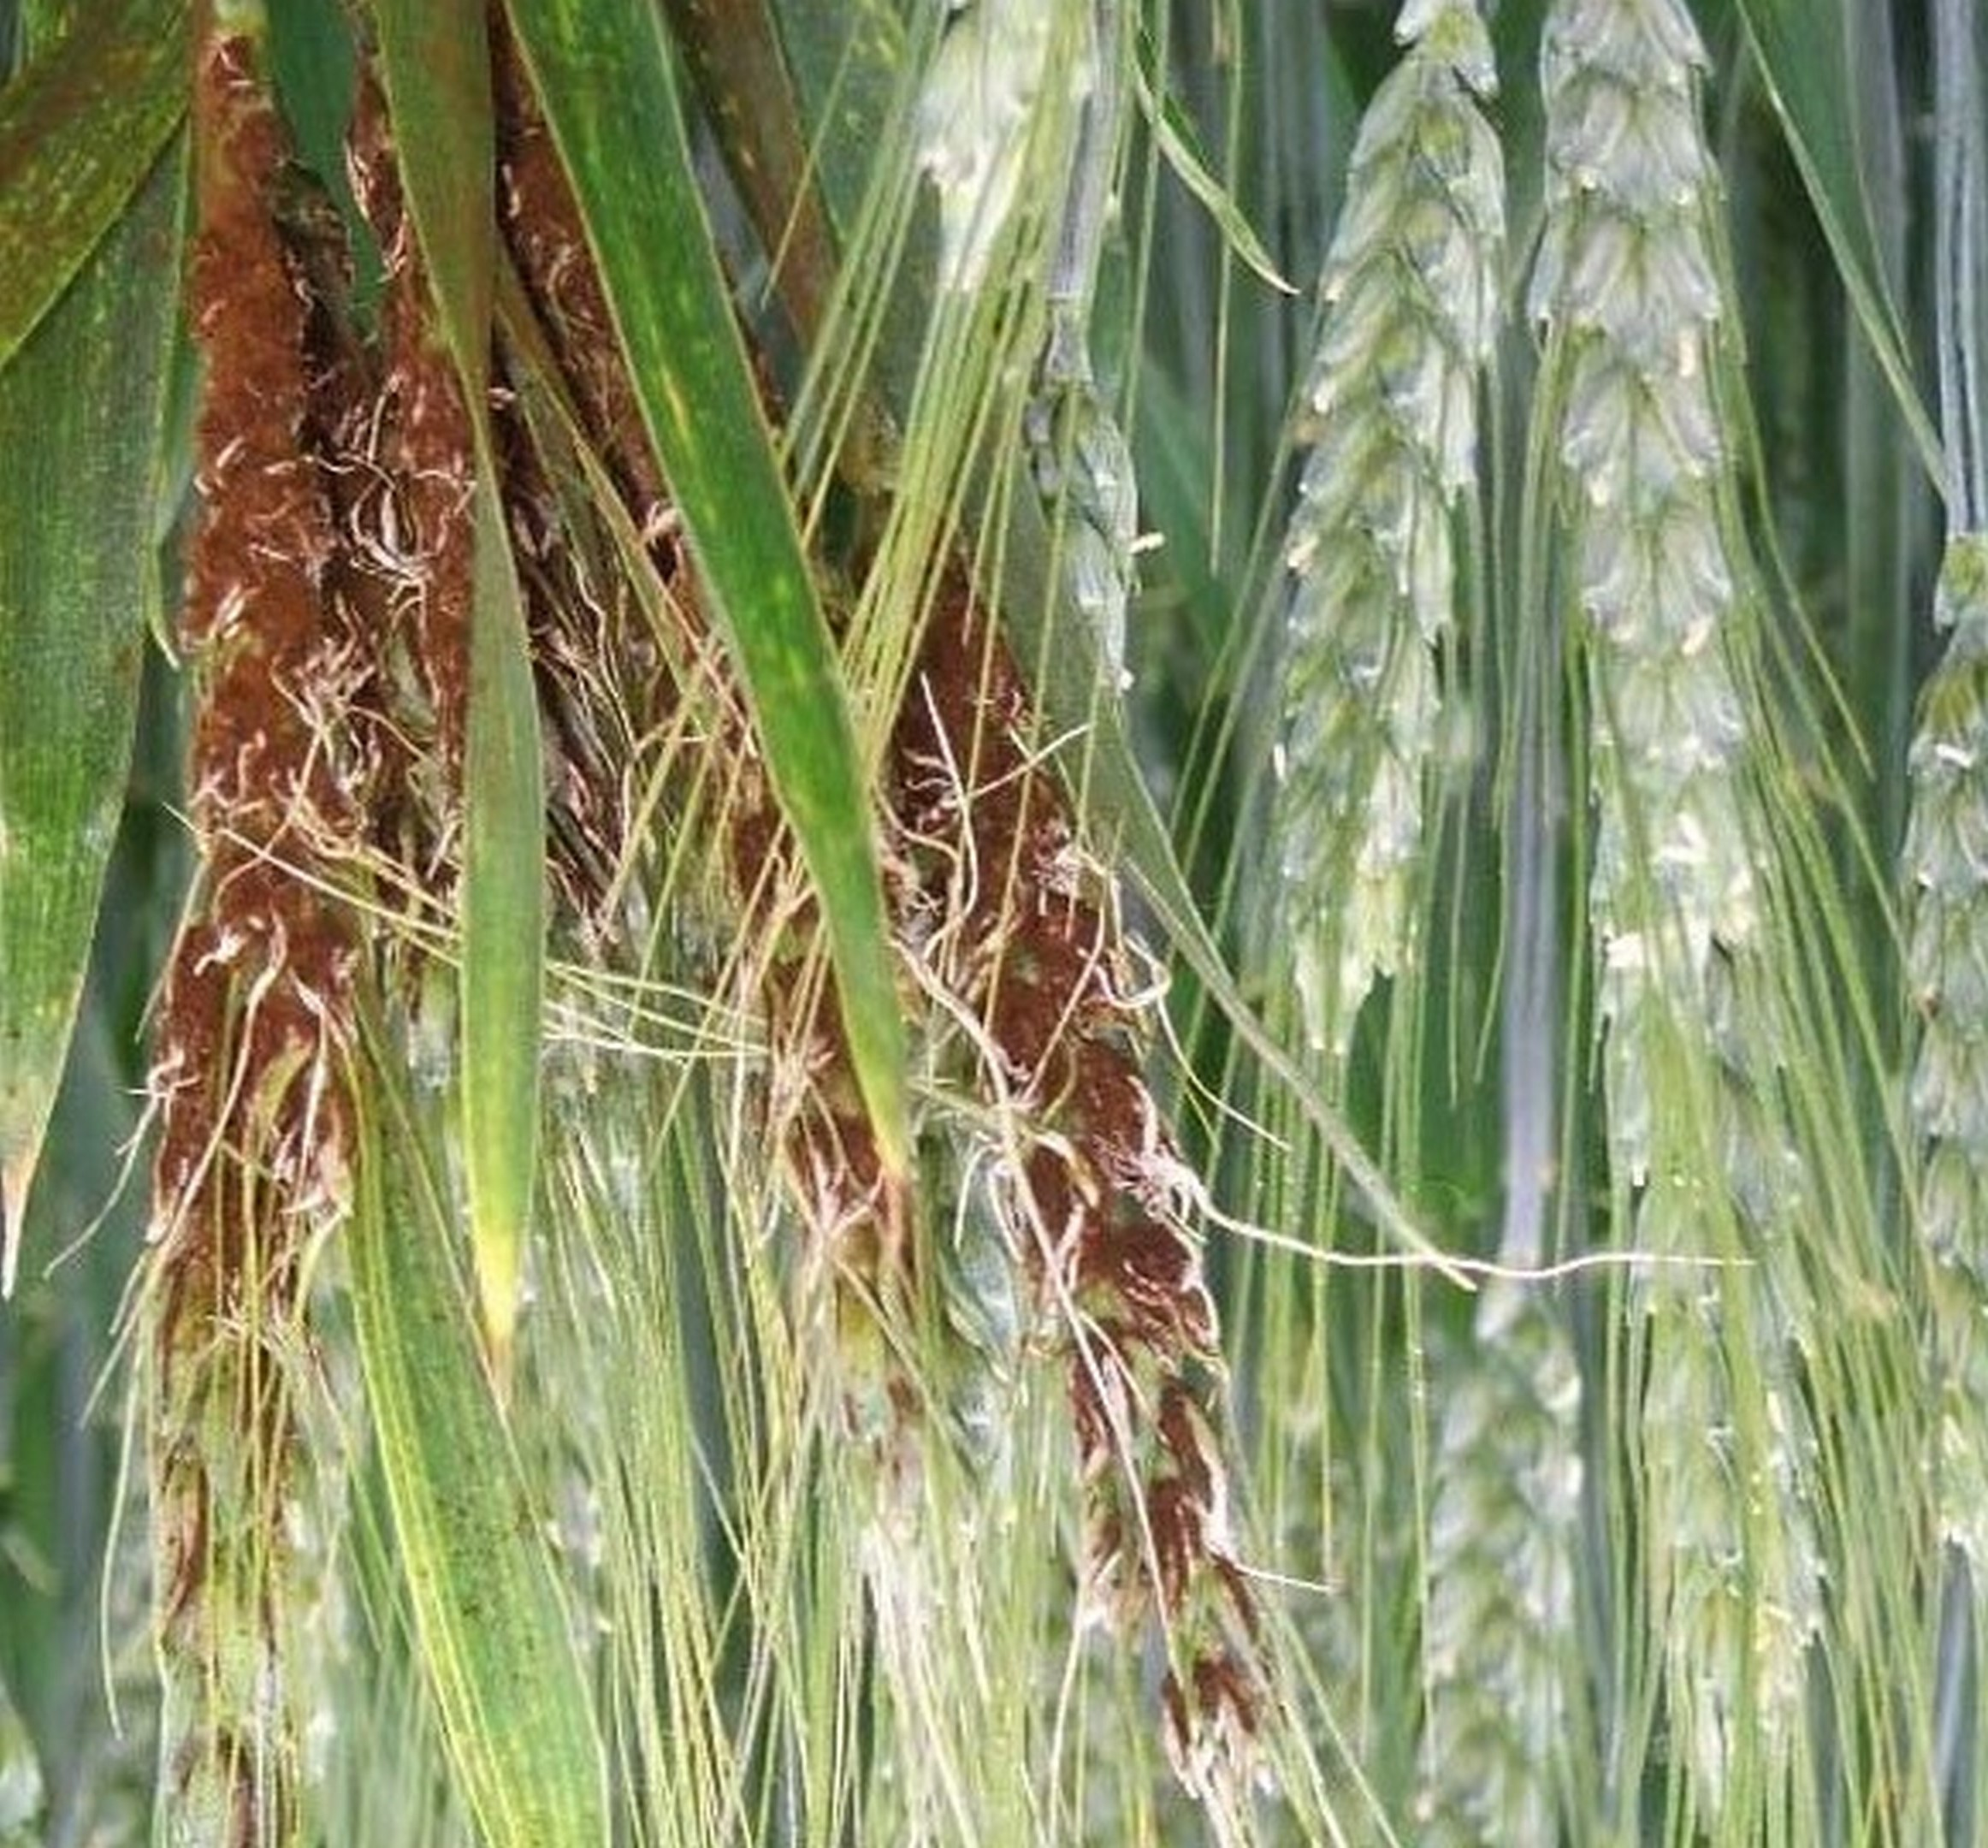Wheat Loose Smut: (139, 174, 1219, 1431)
